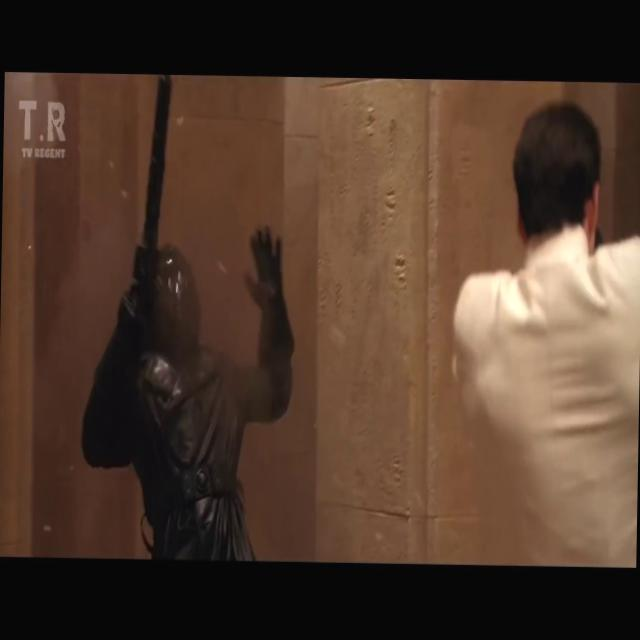long weapon: (103, 68, 185, 402)
